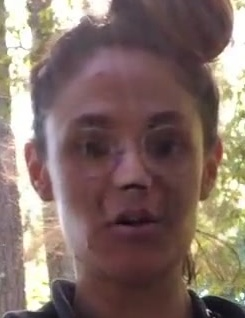n_f: (109, 135, 155, 195)
